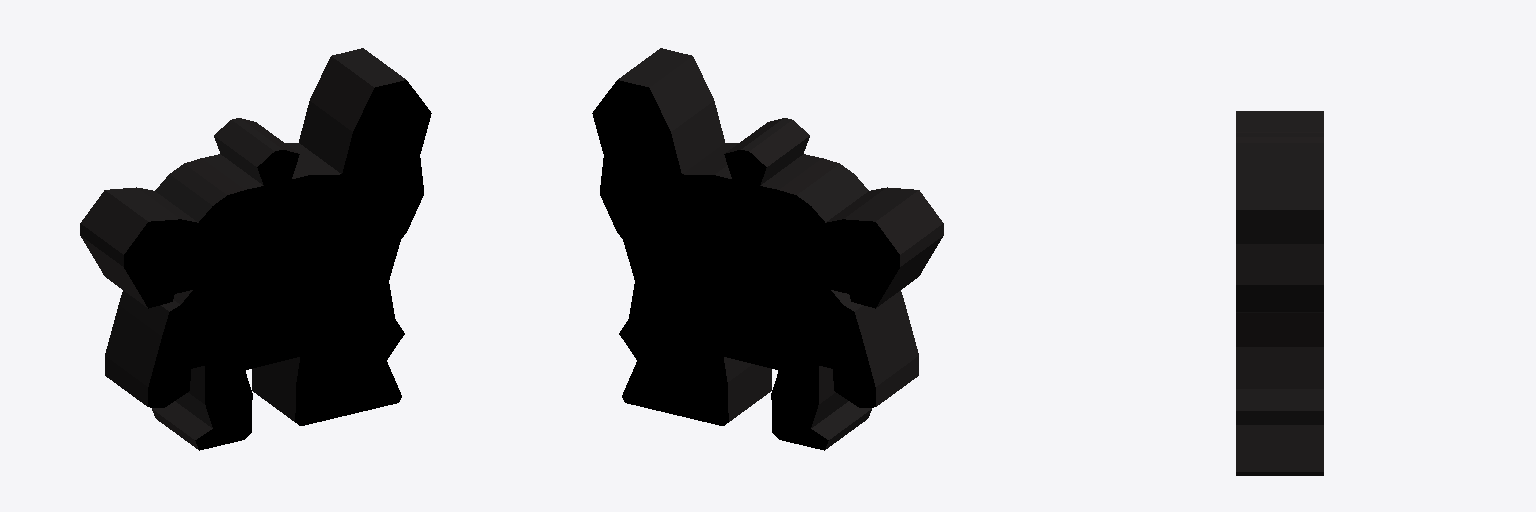
Rendered from gillbert.obj.
The picture shows the model from 3 angles: view 1: azimuth 30°, elevation 25°; view 2: azimuth 150°, elevation 25°; view 3: azimuth 270°, elevation 25°; orthographic projection.
Visible parts, largest first — view 1: gillbert; view 2: gillbert; view 3: gillbert.
Part boxes in pixels (bbox=[...]): gillbert: bbox=[80, 48, 431, 450]; gillbert: bbox=[592, 48, 943, 450]; gillbert: bbox=[1236, 111, 1323, 475].
Size of the model in its own units: 0.8179 by 0.8147 by 0.2.